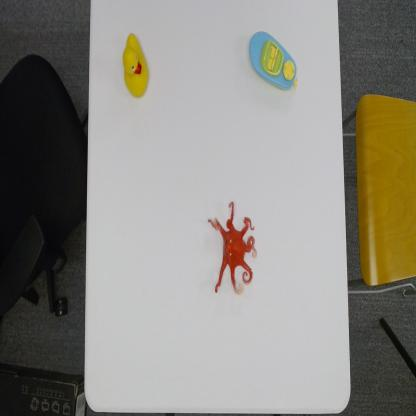Boat: (248, 30, 299, 92)
Duck: (121, 32, 150, 100)
Octopus: (208, 199, 257, 298)
